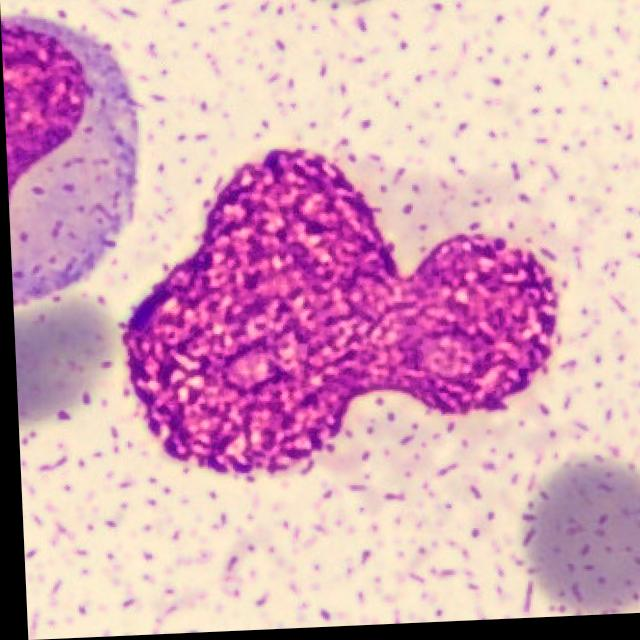Restos celulares: (121, 152, 557, 481)
